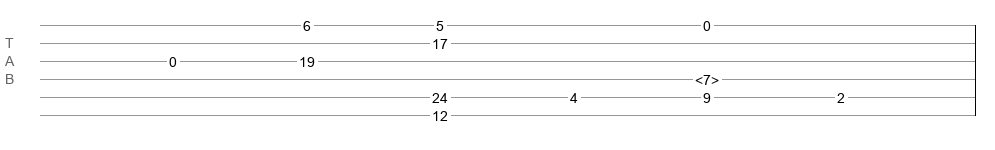0: (169, 54, 177, 64), (703, 18, 711, 28)
12: (432, 108, 448, 118)
17: (432, 36, 448, 46)
19: (299, 54, 315, 64)
2: (837, 90, 845, 100)
24: (432, 90, 448, 100)
4: (570, 90, 578, 100)
5: (436, 18, 444, 28)
6: (303, 18, 311, 28)
9: (703, 90, 711, 100)
harmonic: (695, 72, 719, 82)
